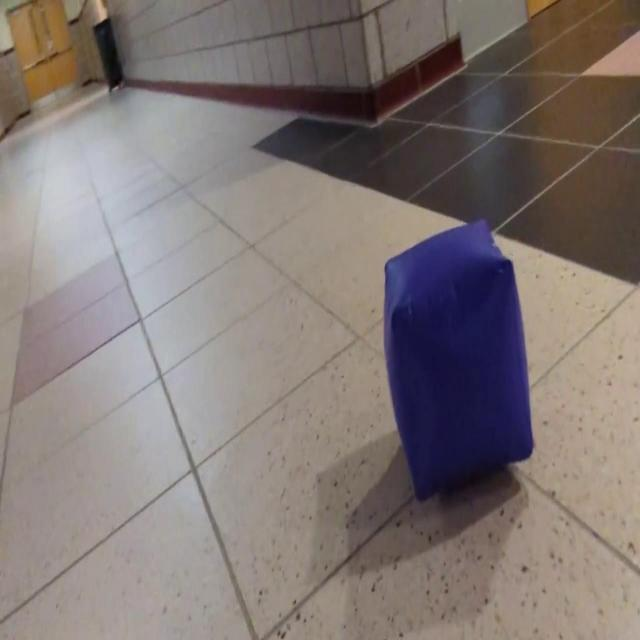frc_cube: (384, 224, 536, 499)
